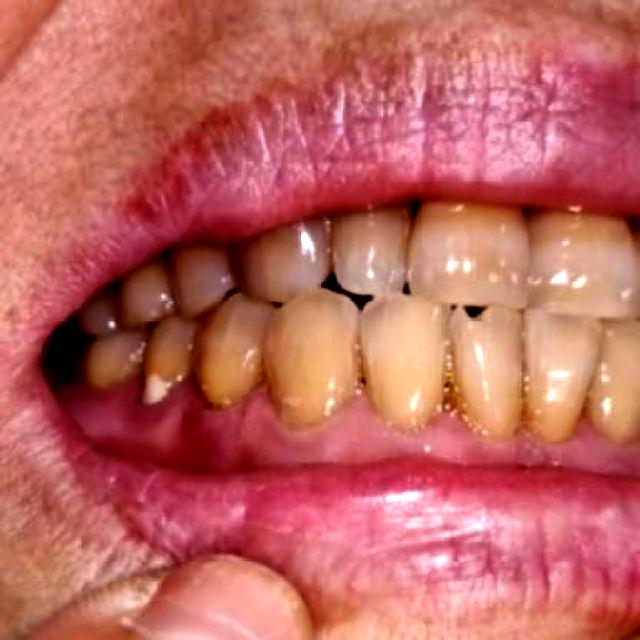Plaque: (58, 373, 635, 469)
